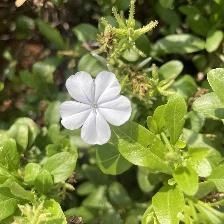chitrak: (61, 68, 129, 146)
